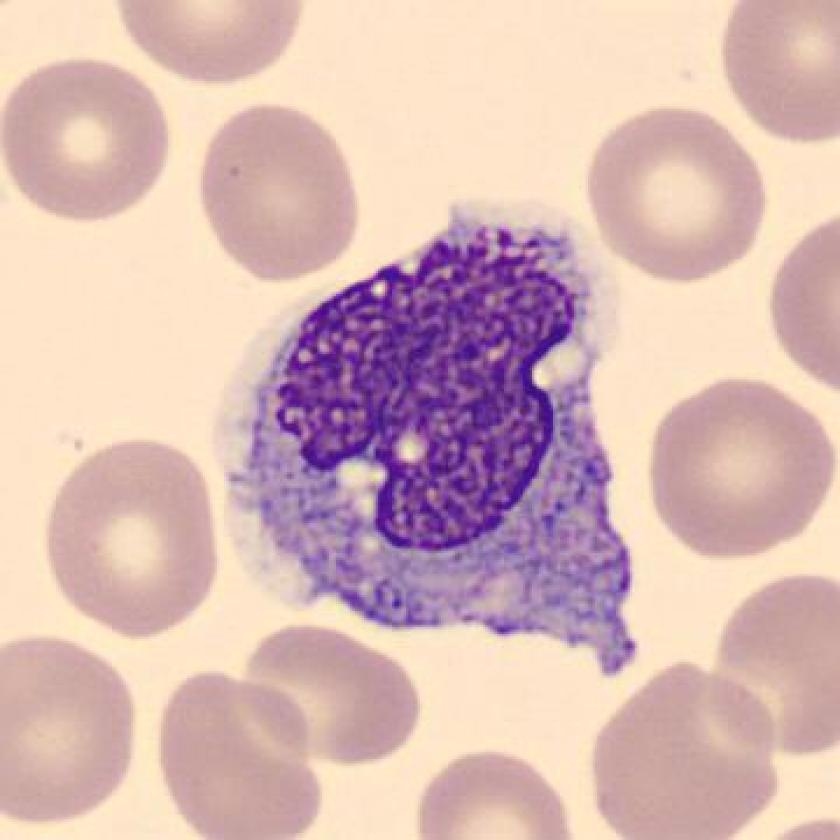monocyte: (195, 191, 675, 688)
